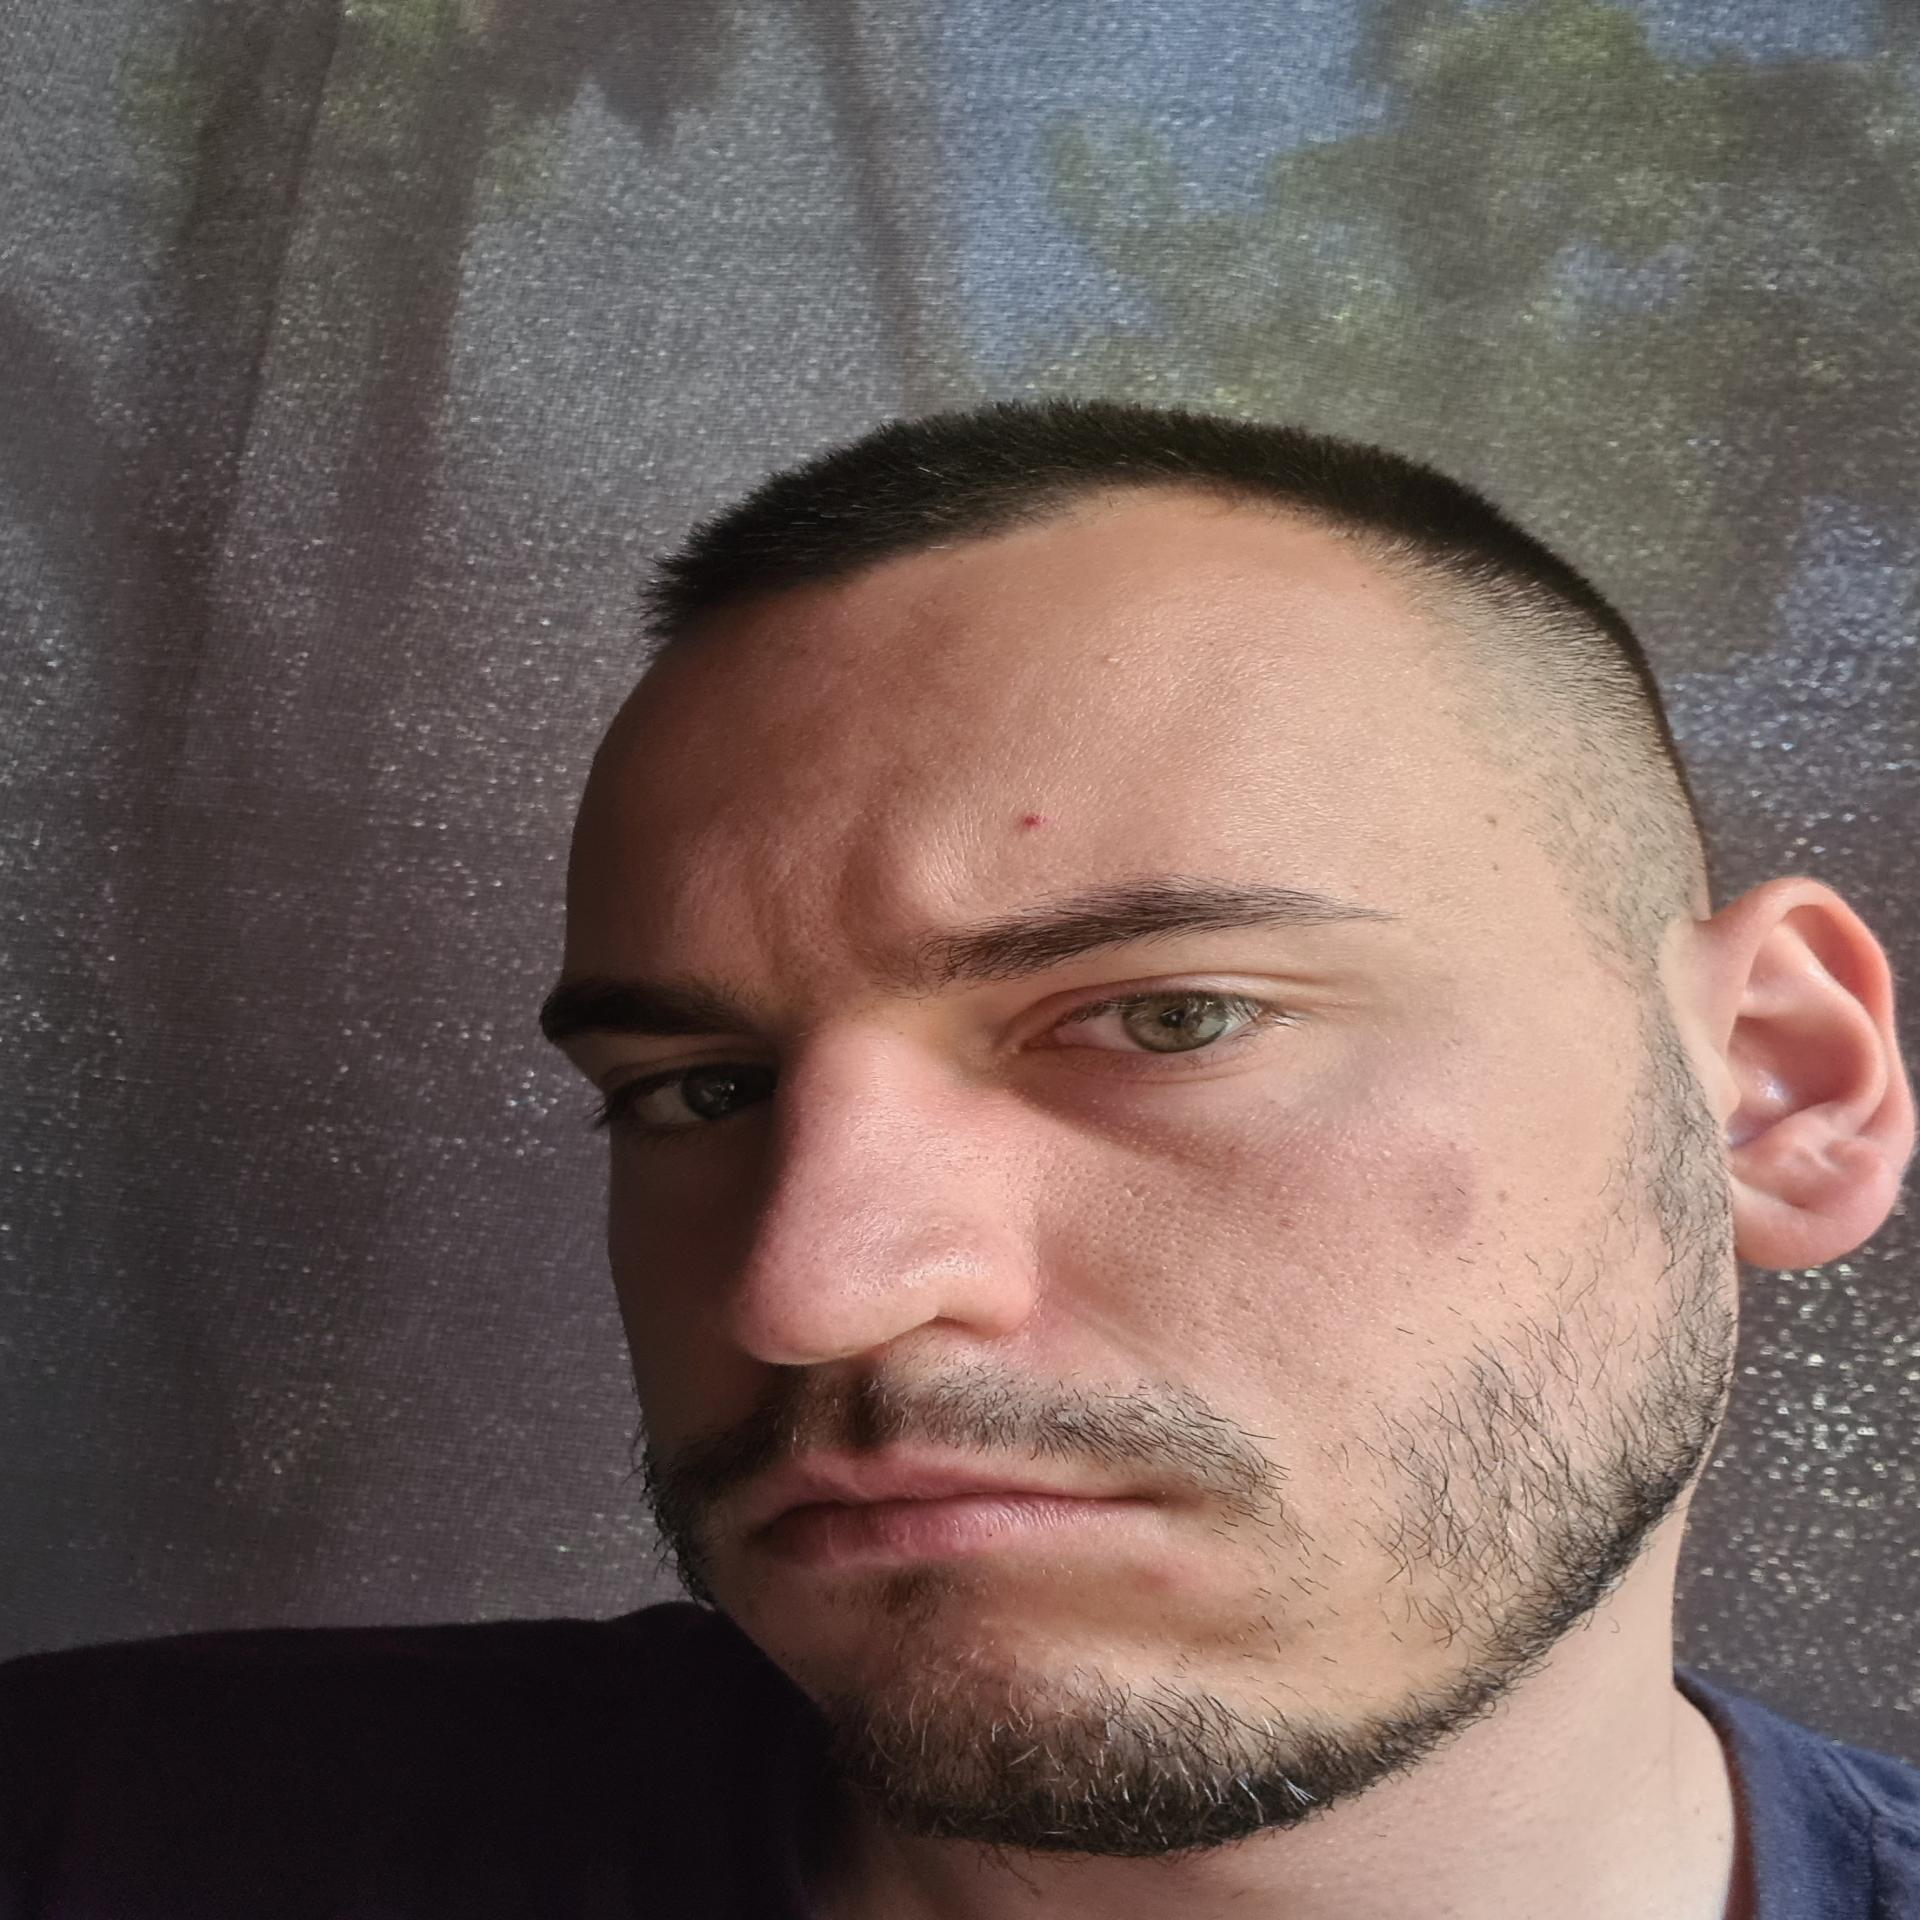Acne: (756, 1153, 847, 1308), (791, 1094, 935, 1153), (1106, 1551, 1204, 1604), (958, 1136, 1036, 1194), (1015, 798, 1046, 842), (1094, 651, 1134, 677)
Englarged Pores: (1000, 1141, 1234, 1340), (774, 893, 891, 990), (928, 1224, 1027, 1284)
